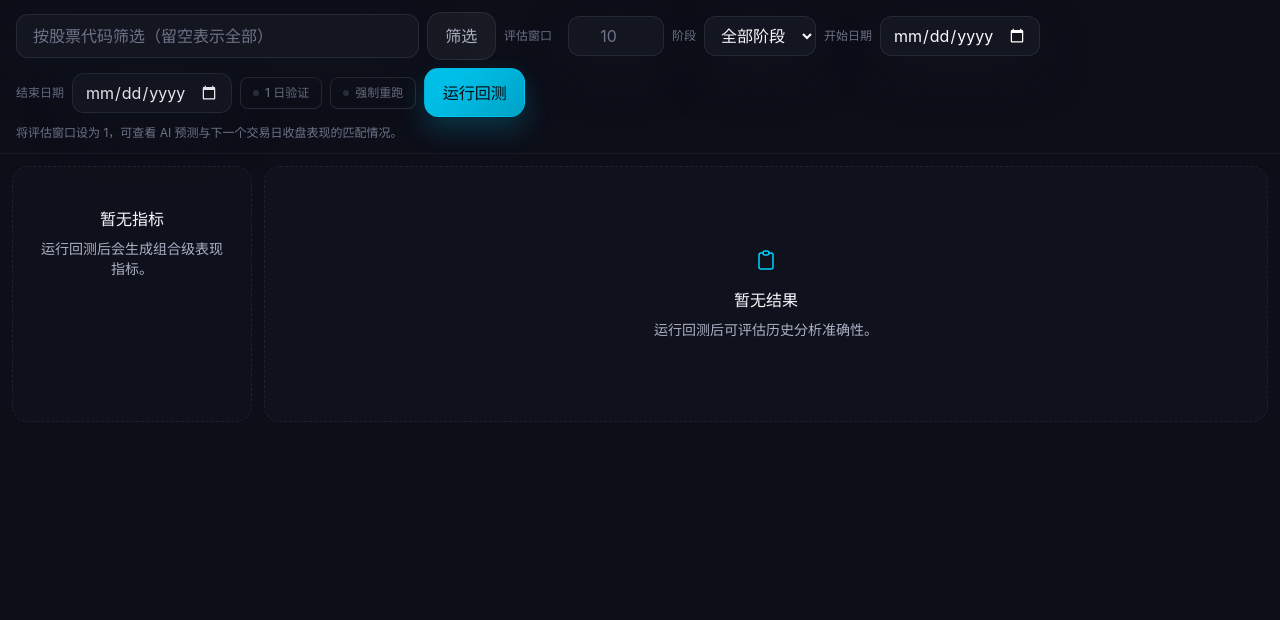
Test case: BacktestPage › runs a backtest and refreshes results using the shared filter values
This screenshot has width=1280, height=620.
In the field with placeholder "按股票代码筛选（留空表示全部）": (217, 36) [16,14,419,58], type "tsla"
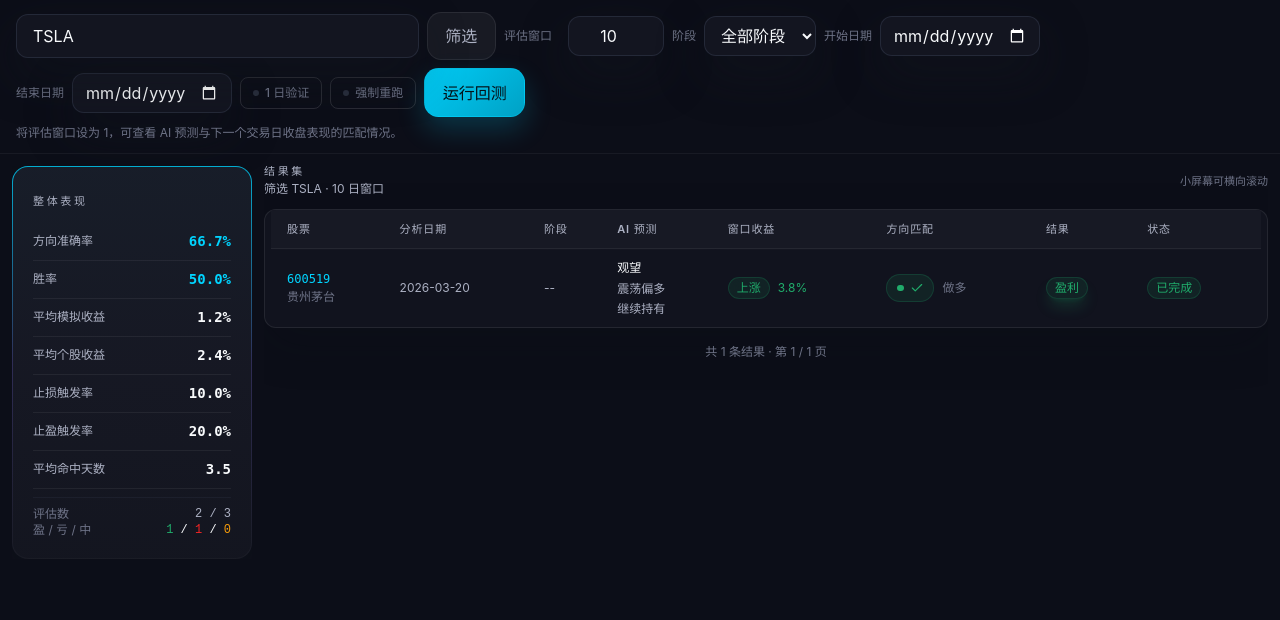
In the number field with placeholder "10": (616, 36) [568,16,664,56], type "15"
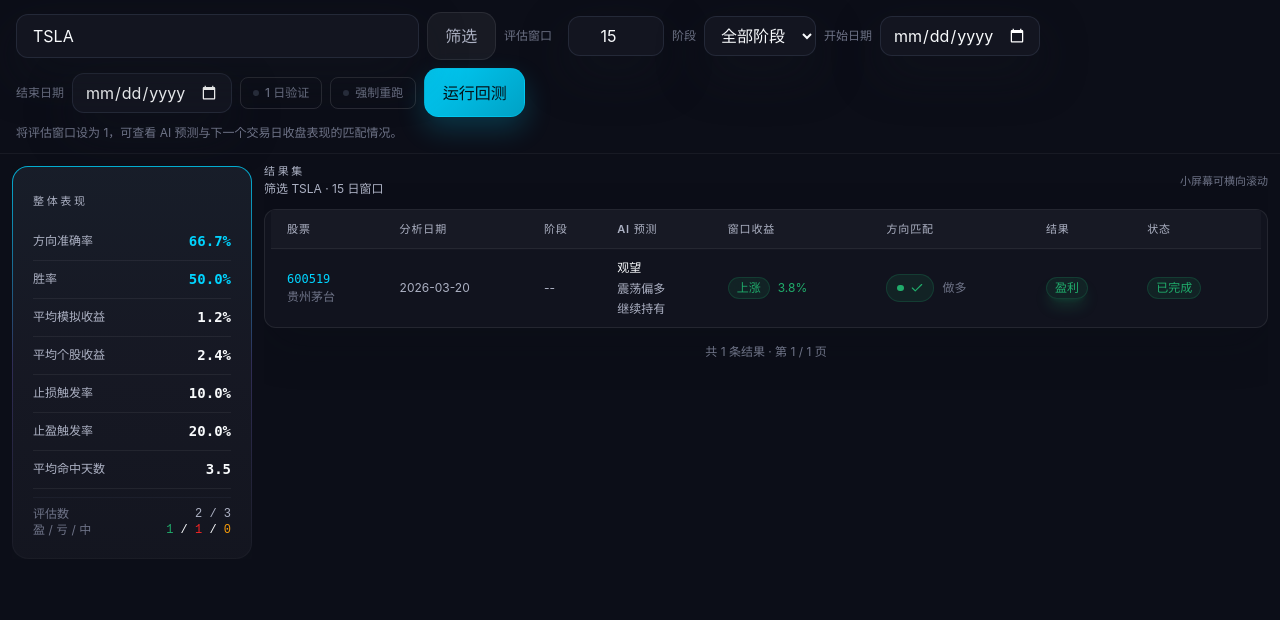
Click the button "运行回测": (475, 93) [424,68,525,117]
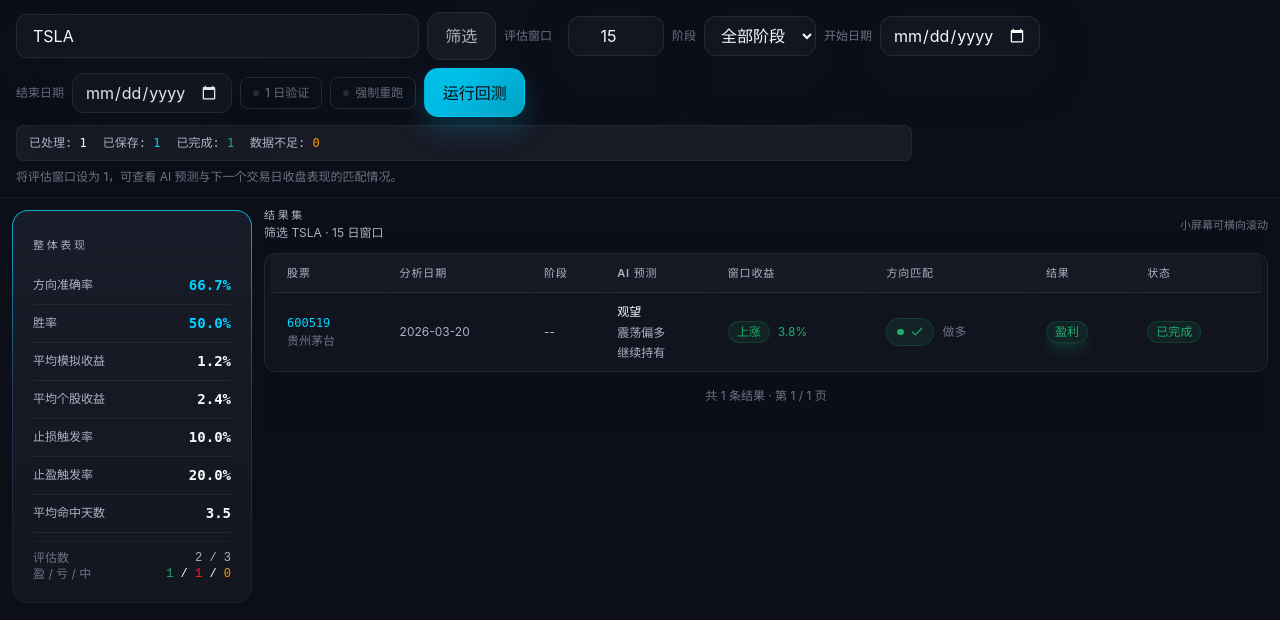
Check: the text "已处理:" is shown, box [29,136,72,150]
Check: the text "已保存:" is shown, box [103,136,146,150]
